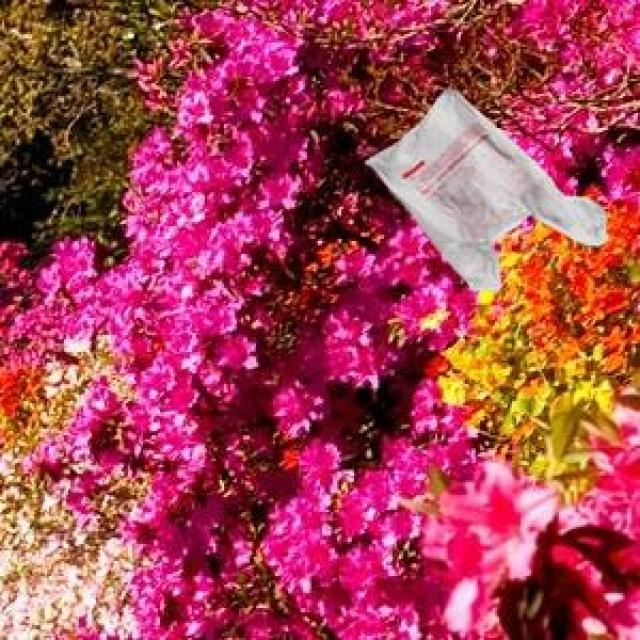Plastic_Bag: (362, 86, 604, 289)
